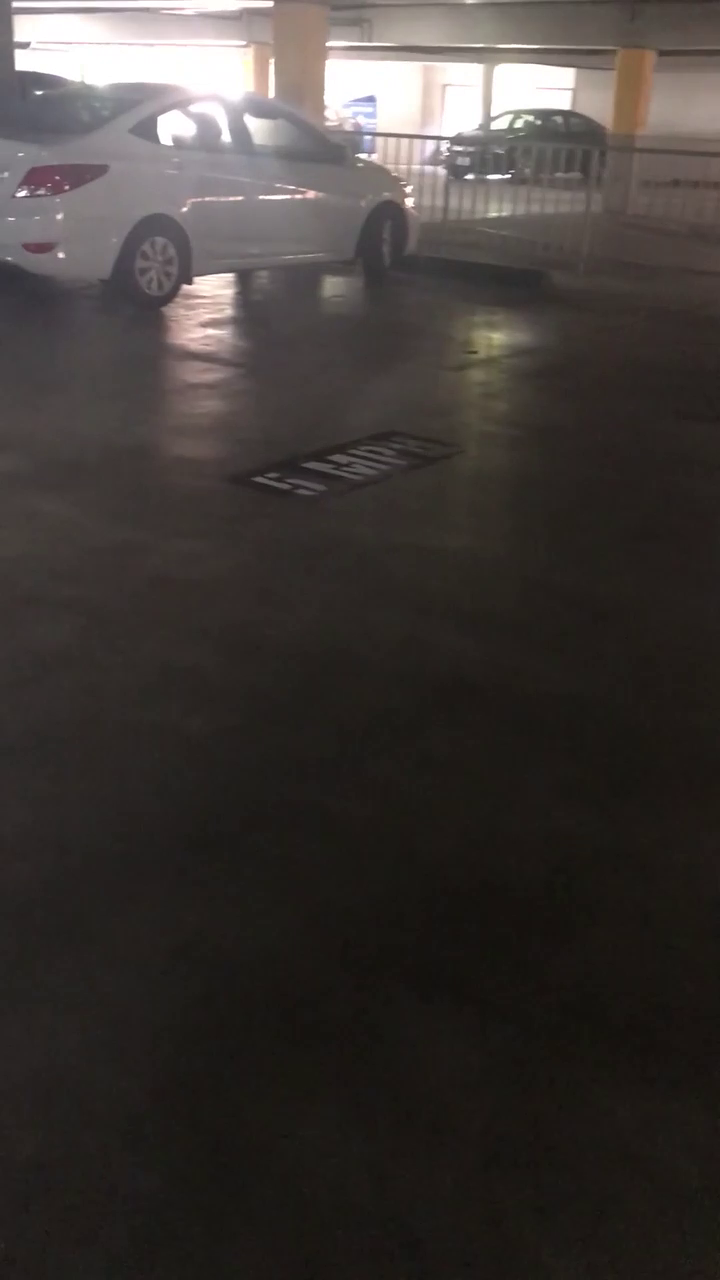car: (0, 52, 407, 323)
